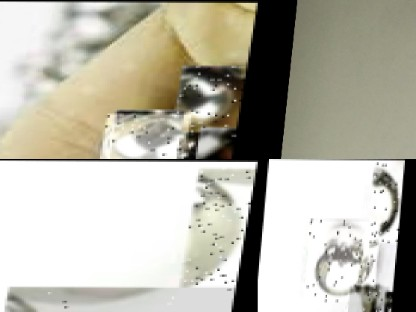ironball: (179, 166, 256, 312), (305, 218, 382, 300), (9, 285, 240, 312), (176, 64, 249, 130), (105, 112, 195, 159), (368, 159, 404, 241), (200, 126, 241, 159), (350, 284, 391, 312)
